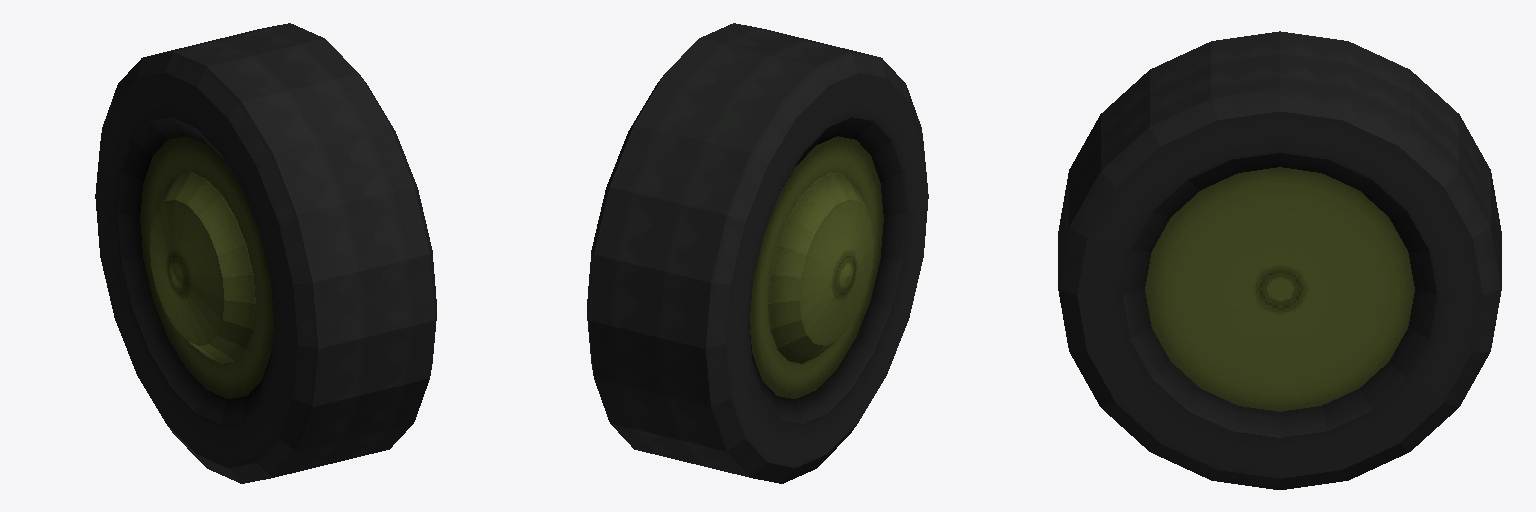
3 renders of one model, left to right at view 1: azimuth 30°, elevation 25°; view 2: azimuth 150°, elevation 25°; view 3: azimuth 270°, elevation 25°, orthographic.
Visible parts, largest first — view 1: mesh_0; view 2: mesh_0; view 3: mesh_0.
Boxes of the visible parts, x1,y1,x2,y2 form: mesh_0: [95, 23, 436, 483]; mesh_0: [587, 23, 928, 483]; mesh_0: [1058, 31, 1501, 489].
Bounding box in the file's own units: 0.1136 × 0.27 × 0.27.
Materials: 1 (1 with a texture image).